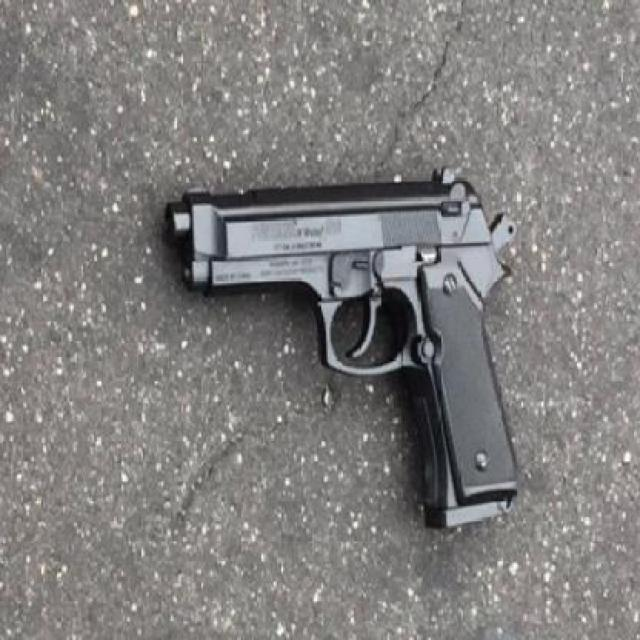gun: (157, 153, 547, 547)
